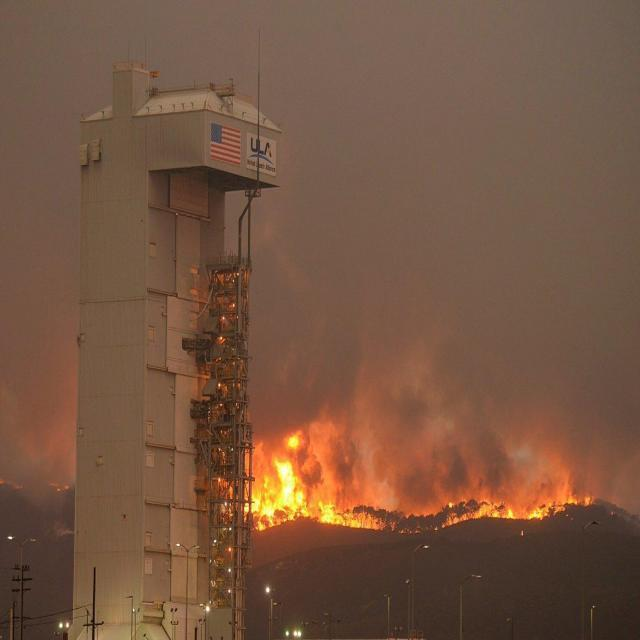Fire: (235, 426, 378, 548), (442, 481, 608, 536)
Smoke: (274, 2, 634, 446)
